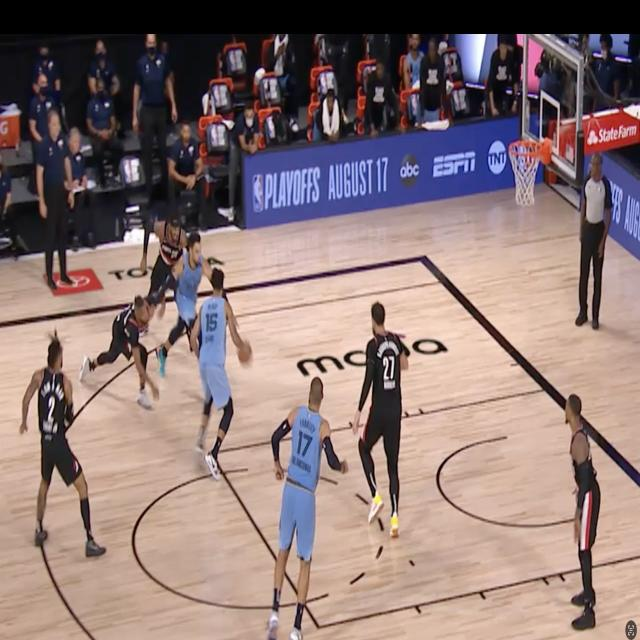no foul: (184, 278, 246, 476), (144, 209, 201, 385), (85, 278, 156, 410)
